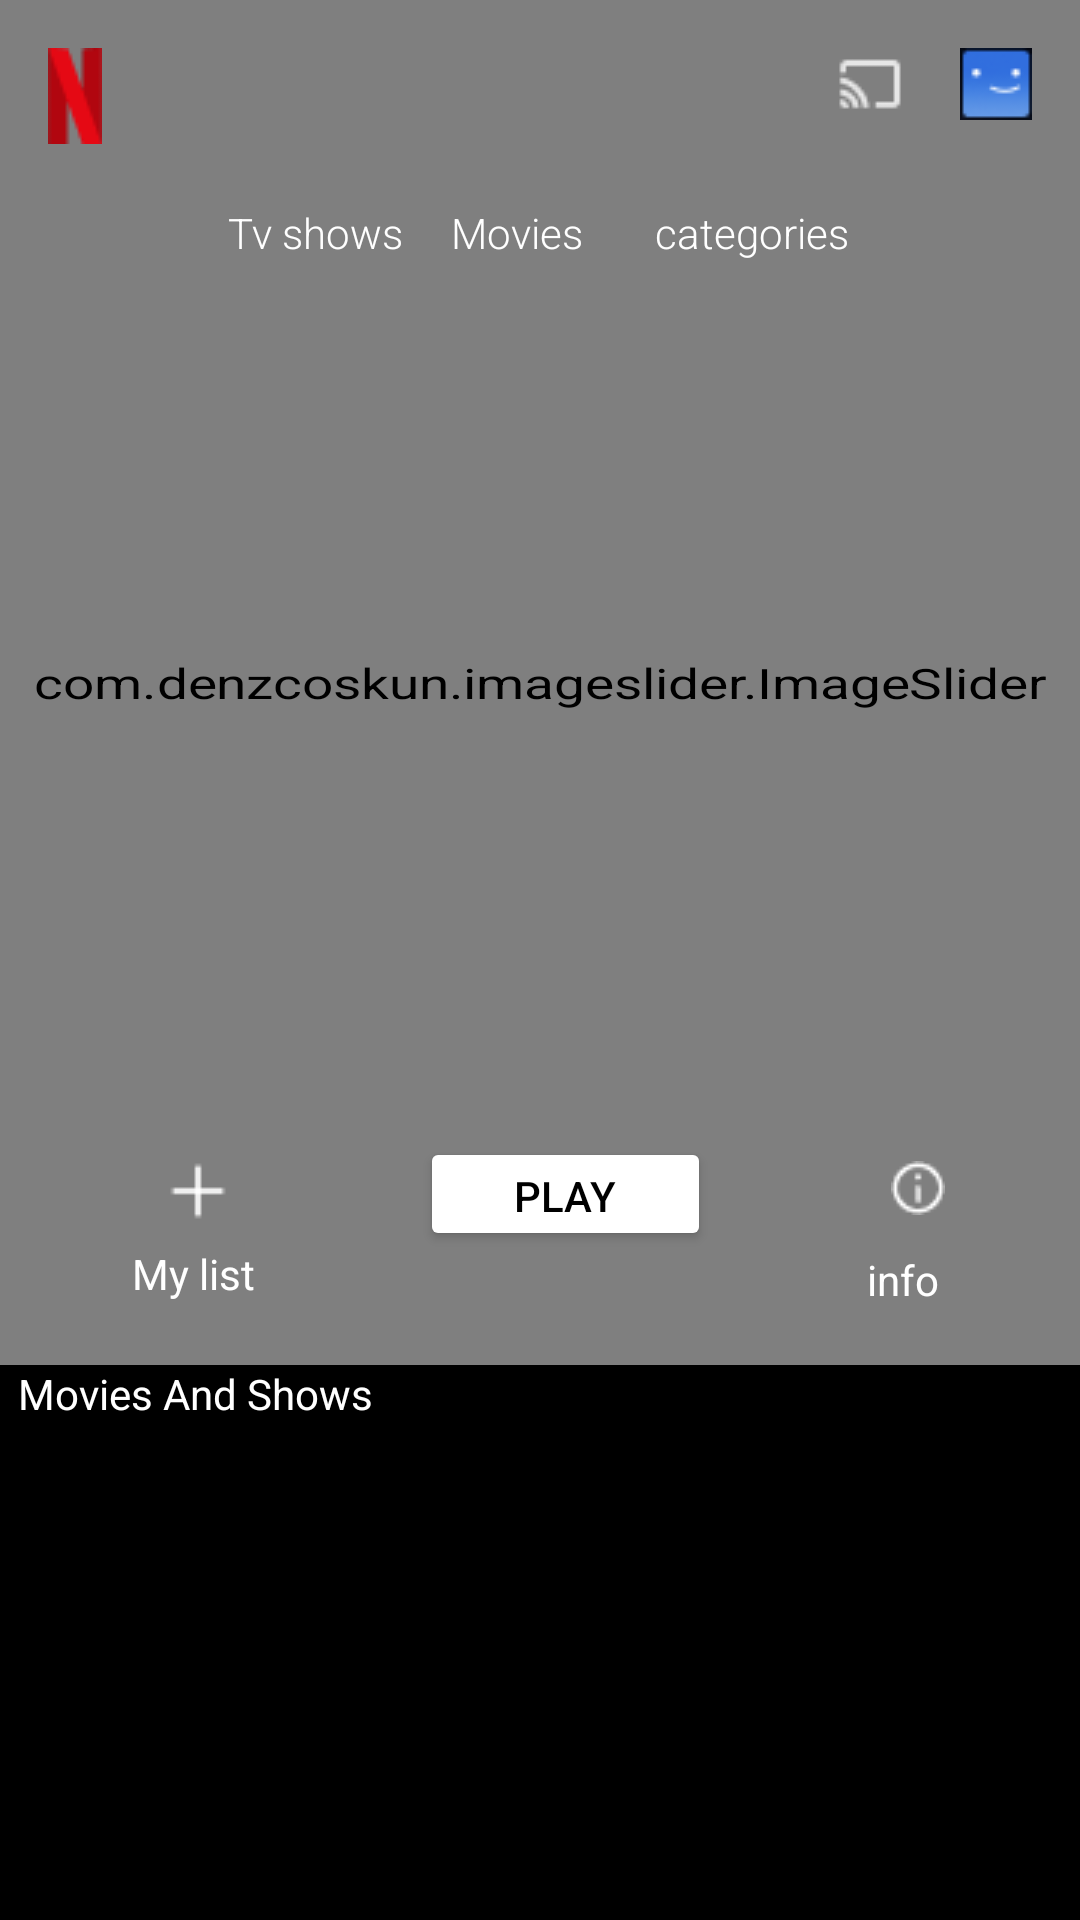

Screen size 1080px×1920px. Icon name, then its center in pixels as point (x, y):
accountuser: point (996, 84)
add: point (198, 1191)
stream: point (870, 84)
